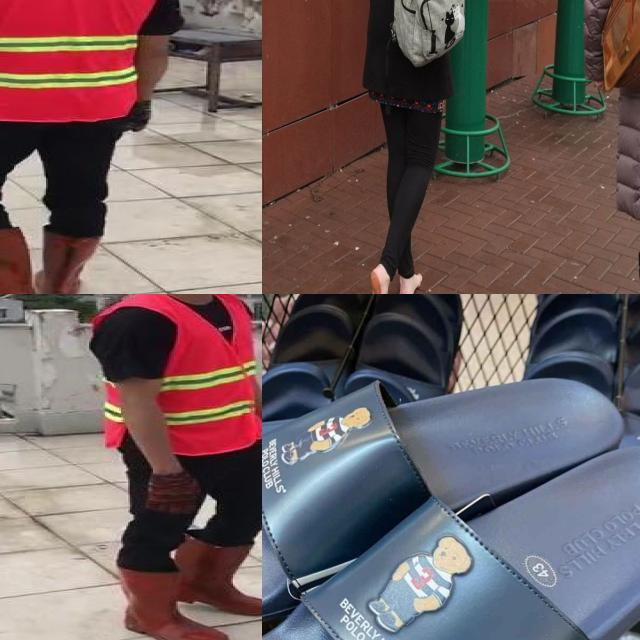Barefoots: (367, 266, 385, 294), (398, 273, 422, 294)
Sandals: (262, 371, 640, 640)
boots: (114, 561, 224, 640), (172, 533, 262, 613), (44, 229, 106, 294), (0, 232, 44, 294)
hand_glove: (146, 474, 206, 514), (124, 101, 160, 132)
person: (86, 294, 262, 640), (0, 0, 176, 294)
vest: (94, 294, 262, 455), (0, 0, 152, 120)
